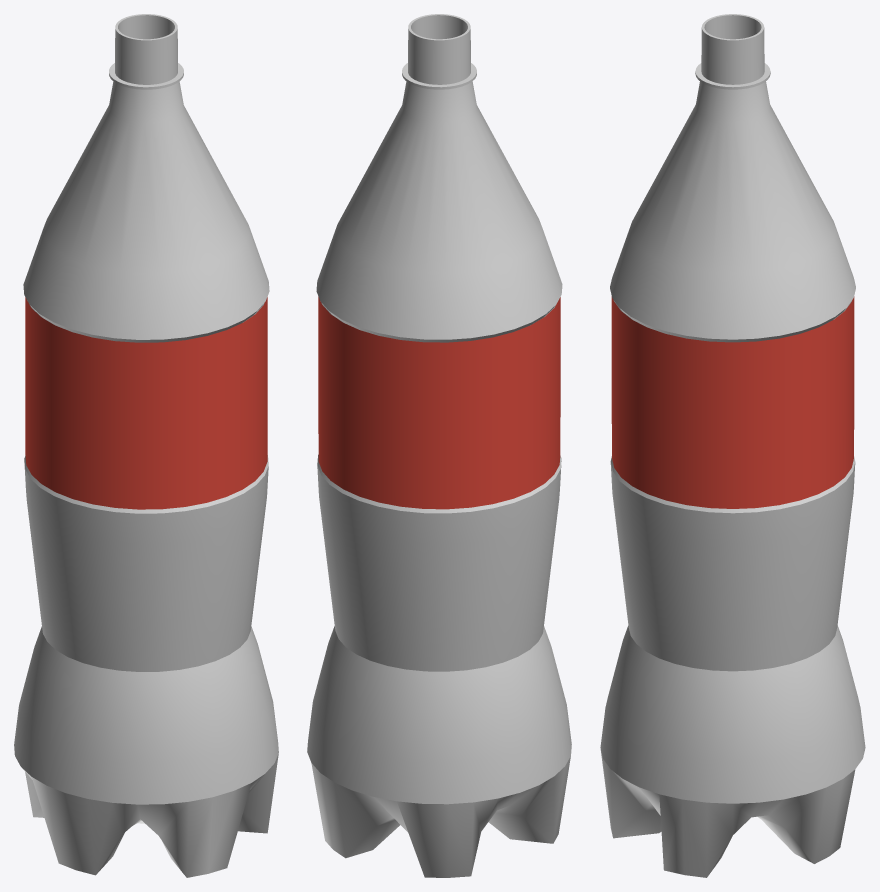
The model's file is coke.fbx.
3 views of the same model, side by side, from view 1: azimuth 30°, elevation 25°; view 2: azimuth 150°, elevation 25°; view 3: azimuth 270°, elevation 25° (orthographic).
Visible parts, largest first — view 1: naka; view 2: naka; view 3: naka.
Part boxes in pixels (x1,y1,x2,y2): naka: (14, 14, 278, 877); naka: (307, 14, 571, 877); naka: (600, 14, 865, 877).
Bounding box in the file's own units: 8.45 × 28.16 × 8.45.
